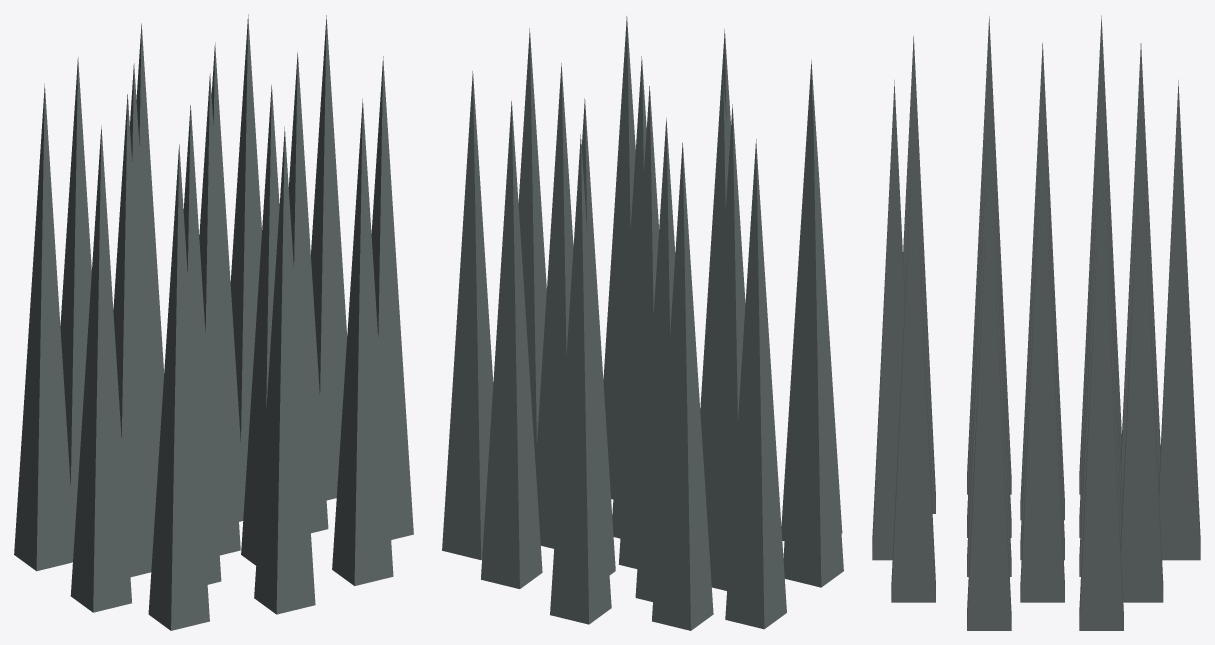
Rendered from SM_spikes.fbx.
3 renders of one model, left to right at view 1: azimuth 30°, elevation 25°; view 2: azimuth 150°, elevation 25°; view 3: azimuth 270°, elevation 25°, orthographic.
Visible parts, largest first — view 1: spikes; view 2: spikes; view 3: spikes.
Boxes of the visible parts, x1=… form: spikes: x1=14, y1=14, x2=413, y2=630; spikes: x1=442, y1=16, x2=843, y2=630; spikes: x1=872, y1=15, x2=1200, y2=630.
Bounding box in the file's own units: 140 × 199 × 125.
